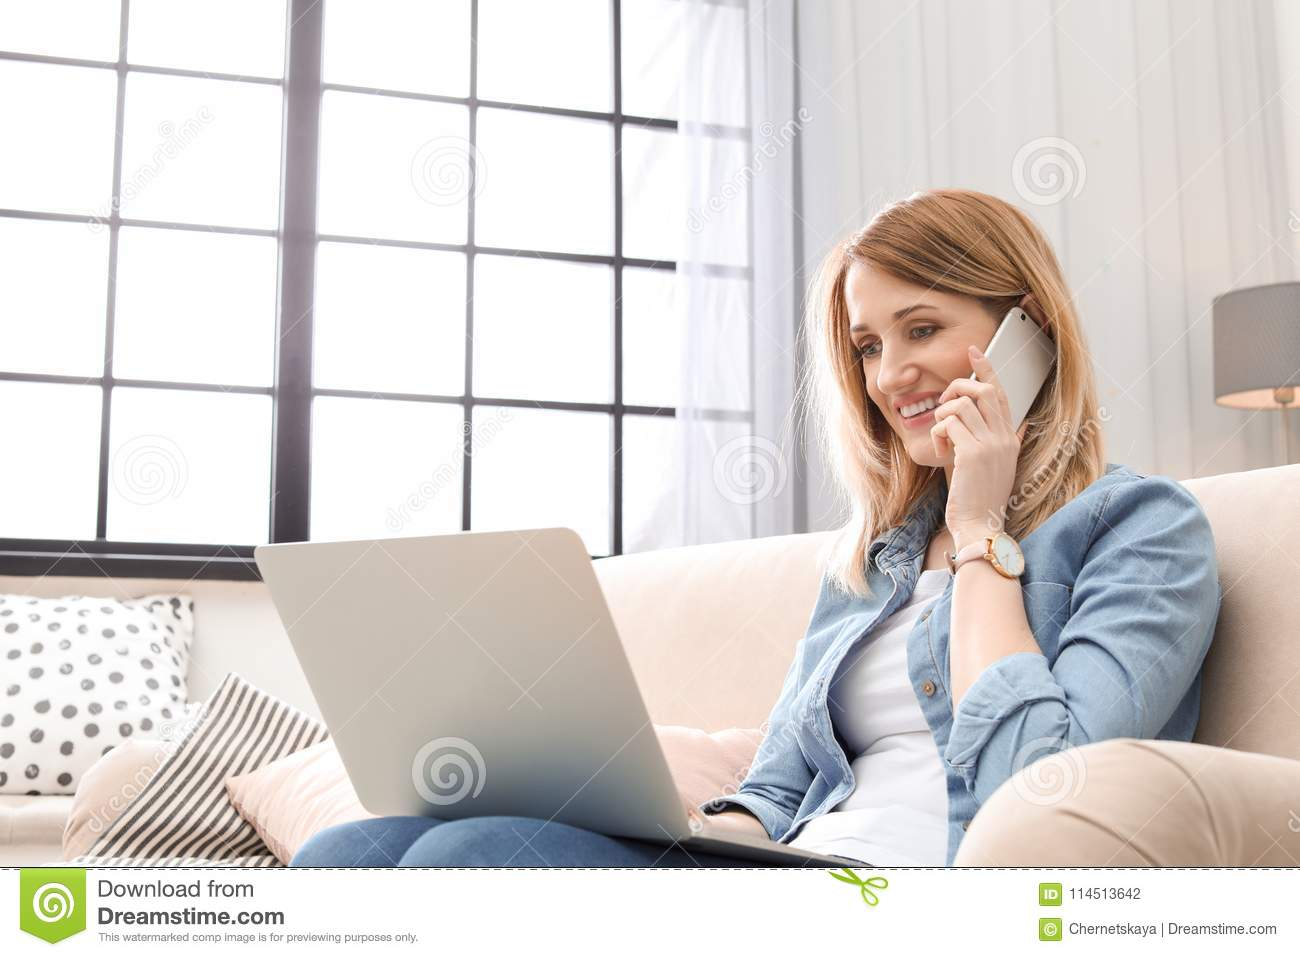phone: (948, 304, 1060, 451)
talk: (843, 288, 1062, 541)
